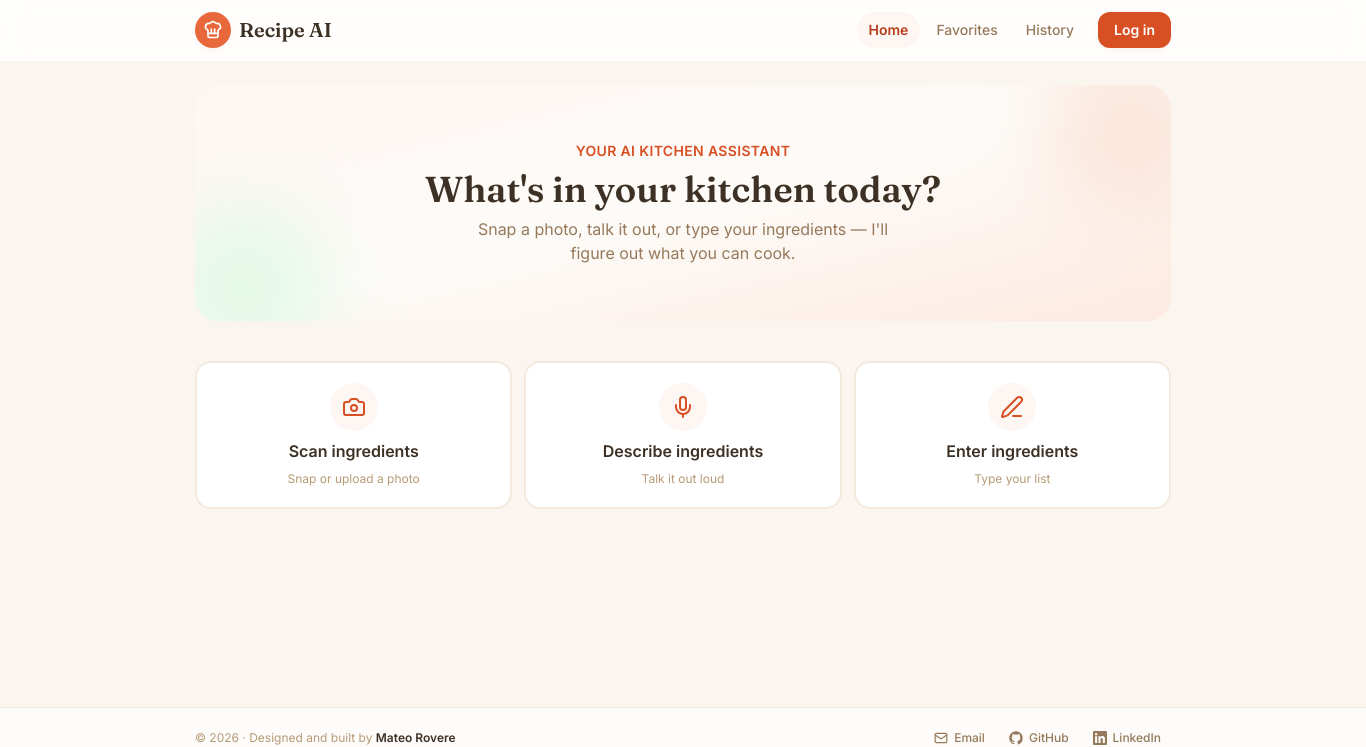
Test: text ingredient -> review -> results flow › lets a user type ingredients, review them, and see ranked recipes
The image size is (1366, 747).
Click the button "Enter ingredients Type your list" at x=1012, y=407, box top-left (854, 361), bottom-right (1171, 509)
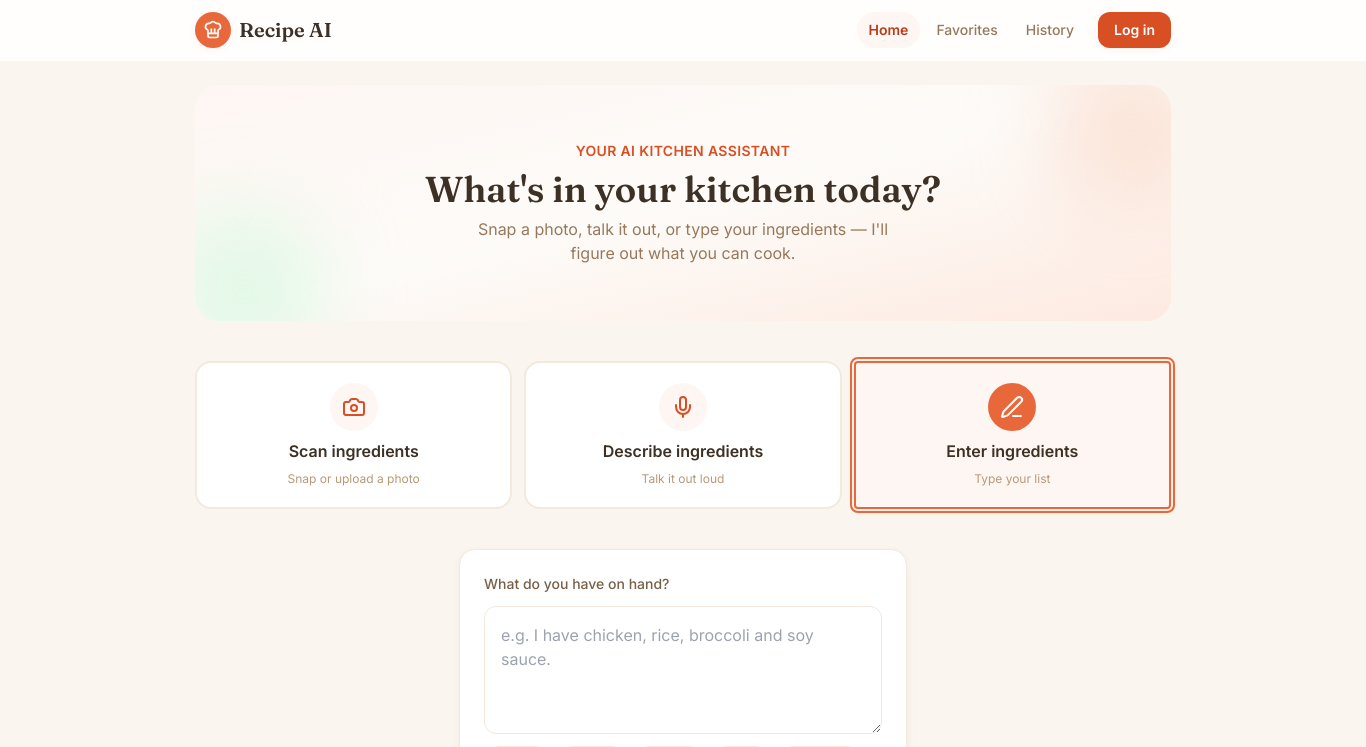
Type "I have chicken and rice" into the text box labelled "What do you have on hand?" at x=683, y=670, box top-left (484, 606), bottom-right (882, 734)
(page scrolled)
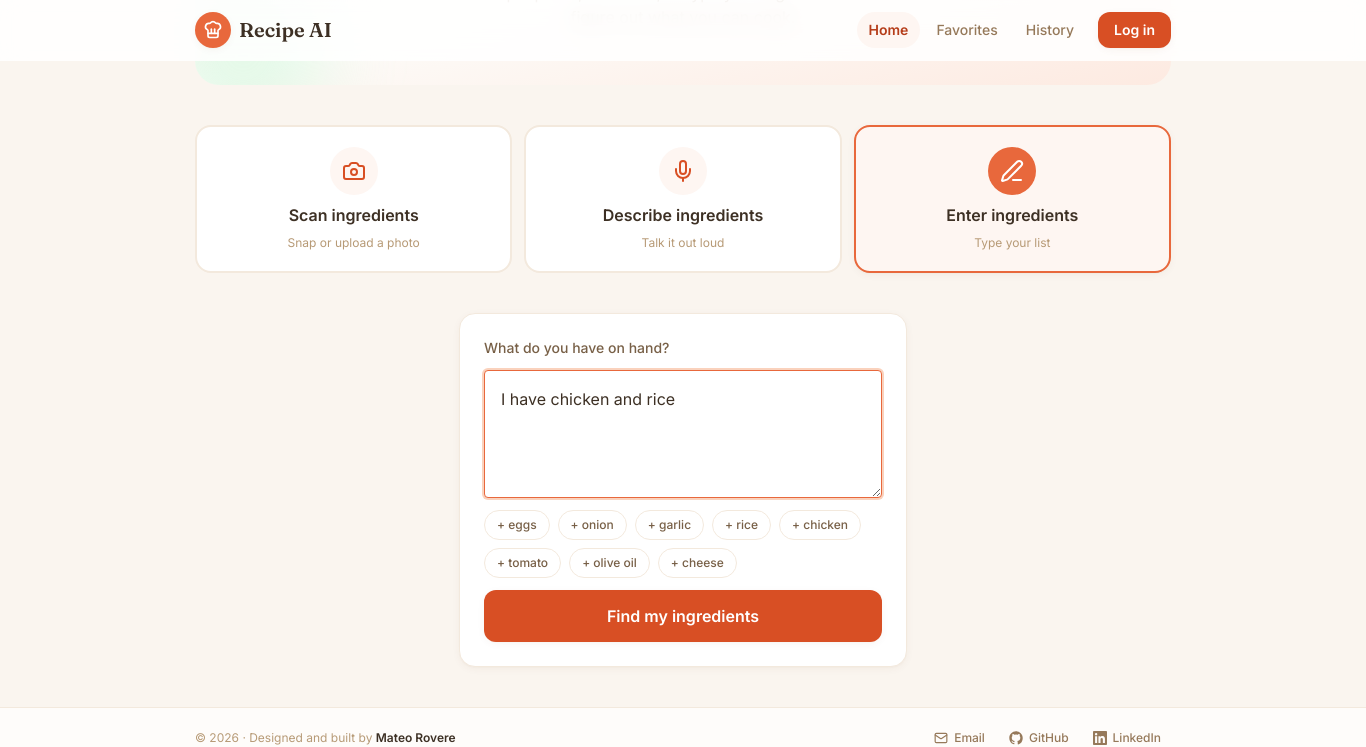
Click the button "Find my ingredients" at x=683, y=616, box top-left (484, 590), bottom-right (882, 642)
(page scrolled)
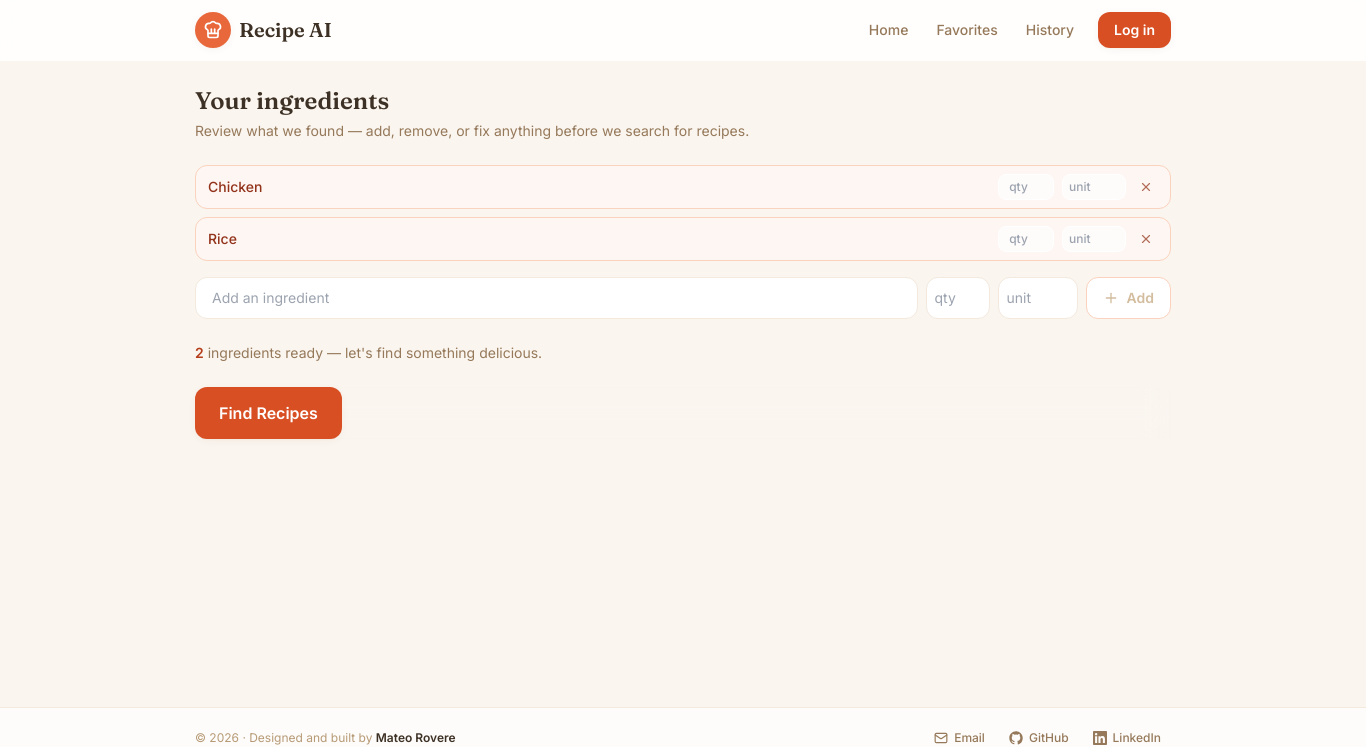
Expected: the heading "Your ingredients" is shown, top-left (195, 86), bottom-right (389, 115)
Result: the text "chicken" is shown at top-left (208, 178), bottom-right (262, 195)
Result: the text "rice" is shown at top-left (208, 230), bottom-right (237, 247)
Click the button "Find Recipes" at x=268, y=413, box top-left (195, 387), bottom-right (342, 439)
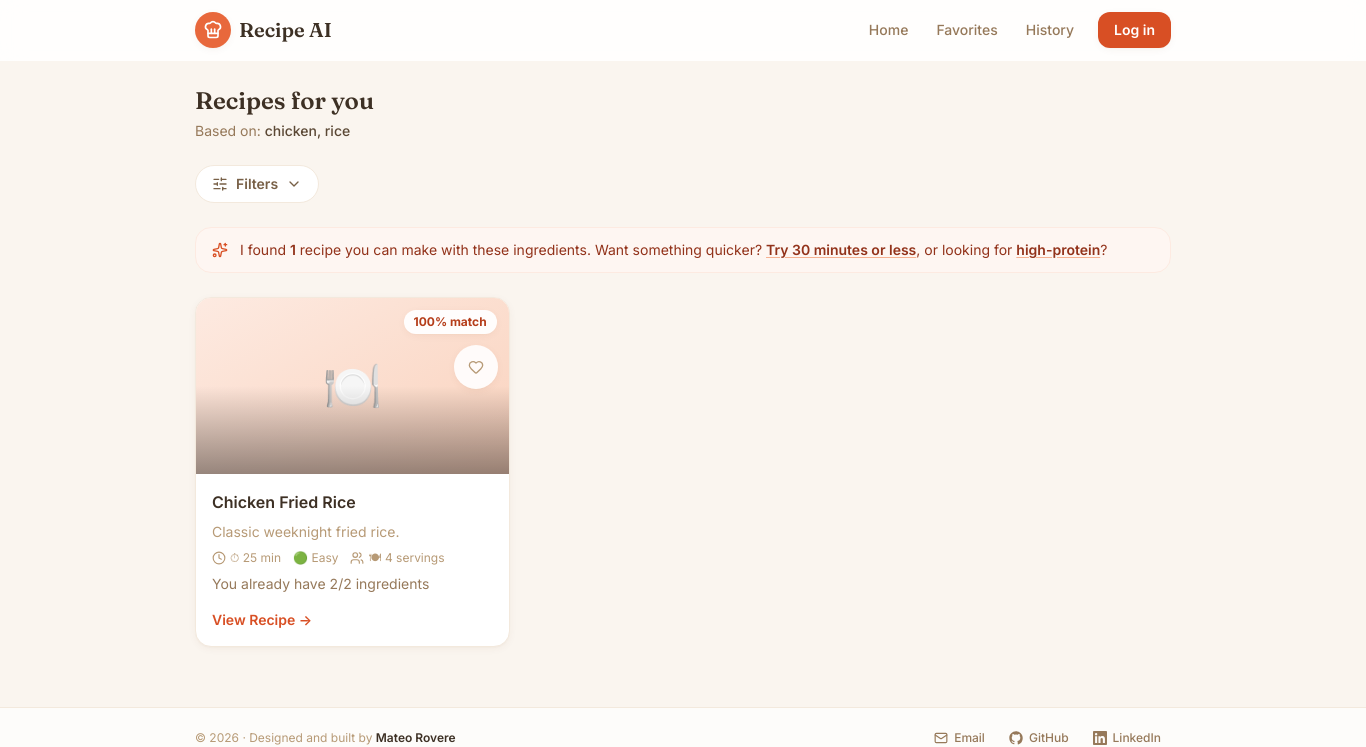
Result: the heading "Chicken Fried Rice" is shown at top-left (212, 492), bottom-right (356, 512)
